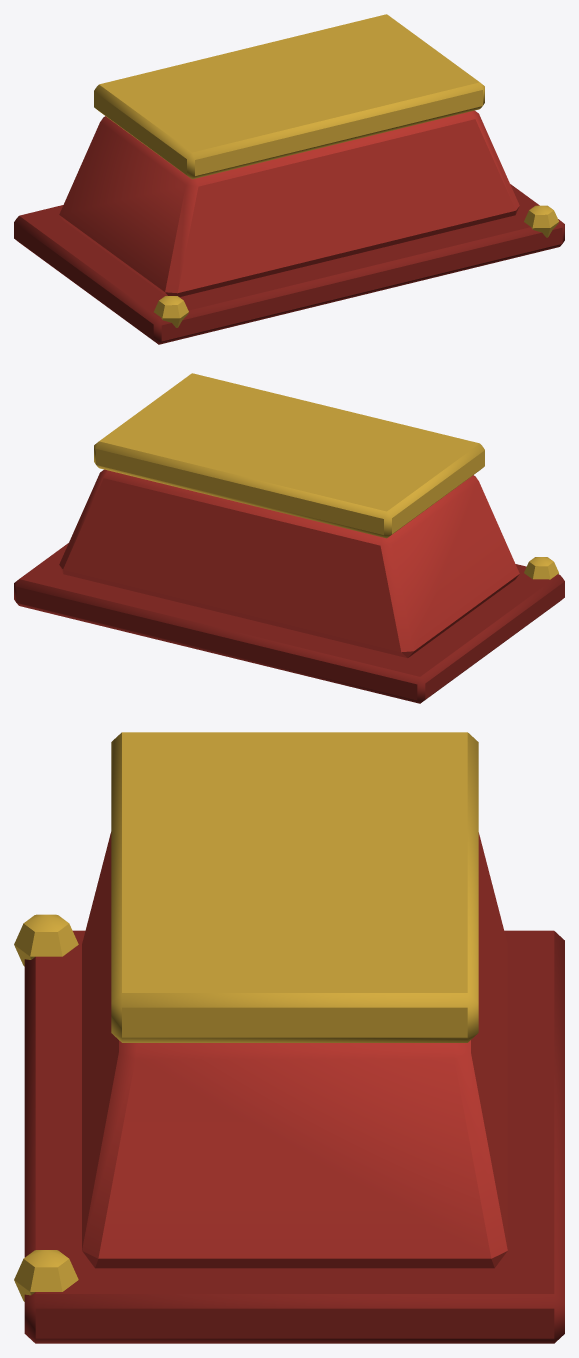
Rendered from 404_piece_roue_socle.fbx.
3 views of the same model, one above another, from view 1: azimuth 30°, elevation 25°; view 2: azimuth 150°, elevation 25°; view 3: azimuth 270°, elevation 25° (orthographic). The views are drawn at different scales.
Parts seen in each view (by area): view 1: Socle; view 2: Socle; view 3: Socle.
Part boxes in pixels (box(x1,y1,x2,y2)): Socle: box(14, 14, 564, 344); Socle: box(14, 373, 564, 703); Socle: box(14, 732, 564, 1343).
Size of the model in its own units: 2.24 by 0.84 by 1.4.
Materials: 1 (1 with a texture image).
